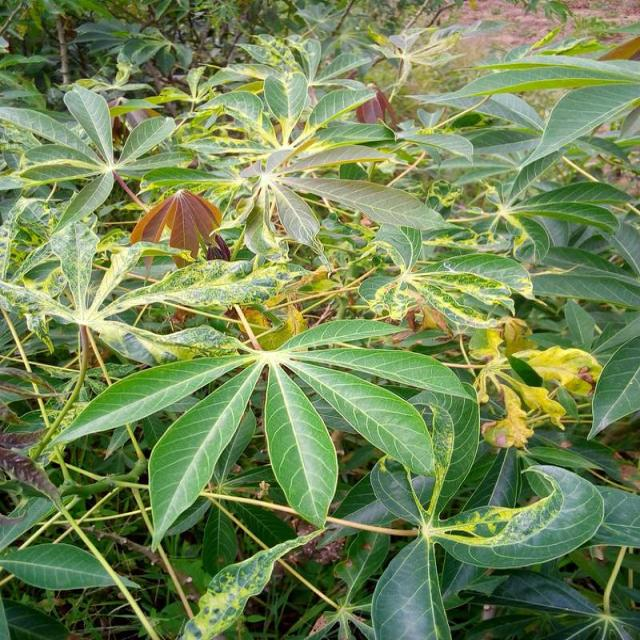cassava leaf: (148, 358, 264, 552), (264, 360, 339, 529)
